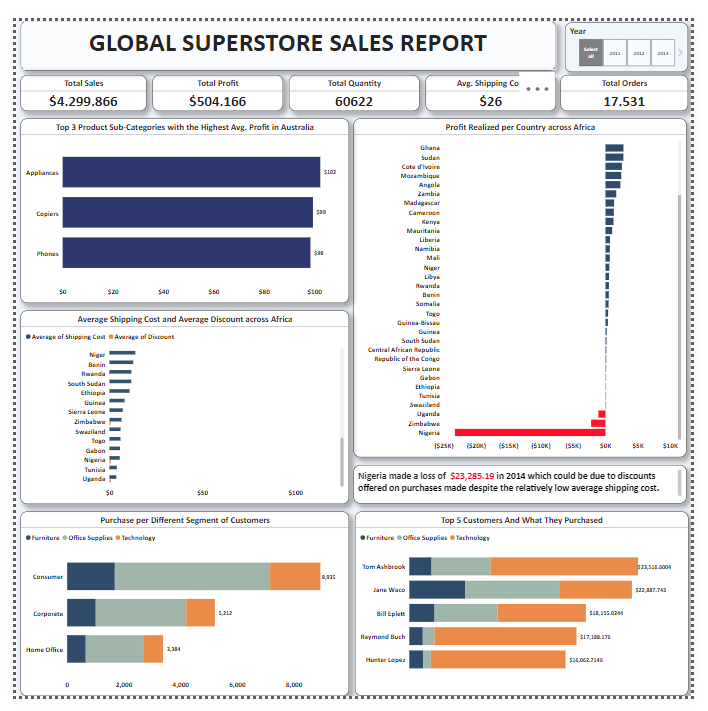

What the dashboard file says about the page in this screenshot:
{"tool":"powerbi","page":{"name":"Page 2","canvas":[1500,1500],"ordinal":1},"visuals":[{"type":"barChart","title":"Purchase per Different Segment of Customers","fields":{"Category":["GlobalSuperstore - Capstone xlsx - Orders.Segment"],"Y":["GlobalSuperstore - Capstone xlsx - Orders.Category"],"Series":["GlobalSuperstore - Capstone xlsx - Orders.Category"]},"box":[10,1090,730,410],"z":0},{"type":"barChart","title":"Profit  Realized per Country across Africa","fields":{"Category":["GlobalSuperstore - Capstone xlsx - Orders.Country","GlobalSuperstore - Capstone xlsx - Orders.Region"],"Y":["GlobalSuperstore - Capstone xlsx - Orders.Profit"]},"box":[752.3,218.2,740.9,854.5],"z":1000},{"type":"barChart","title":"Top 5 Customers And What They Purchased","fields":{"Category":["GlobalSuperstore - Capstone xlsx - Orders.Customer Name"],"Y":["GlobalSuperstore - Capstone xlsx - Orders.Sales"],"Series":["GlobalSuperstore - Capstone xlsx - Orders.Category"]},"box":[752.3,1090.9,740.9,409.1],"z":2000},{"type":"slicer","title":" Year","fields":{"Values":["GlobalSuperstore - Capstone xlsx - Orders.Order Date.Variation.Date Hierarchy.Year"]},"box":[1220,3.3,273.3,110],"z":3000},{"type":"card","title":"Total Sales","fields":{"Values":["GlobalSuperstore - Capstone xlsx - Orders.Sales"]},"box":[10,120,280,80],"z":4000},{"type":"card","title":"Total Profit","fields":{"Values":["GlobalSuperstore - Capstone xlsx - Orders.Profit"]},"box":[303.3,119.9,290,80],"z":5000},{"type":"card","title":"Avg. Shipping Cost","fields":{"Values":["GlobalSuperstore - Capstone xlsx - Orders.Shipping Cost"]},"box":[910,119.9,290,80],"z":6000},{"type":"card","title":"Total Quantity","fields":{"Values":["GlobalSuperstore - Capstone xlsx - Orders.Quantity"]},"box":[606.7,119.9,290,80],"z":7000},{"type":"textbox","box":[10,0,1190,110],"z":8000},{"type":"card","title":"Total Orders","fields":{"Values":["GlobalSuperstore - Capstone xlsx - Orders.Order ID"]},"box":[1210,120,283.3,80],"z":9000},{"type":"barChart","title":"Top 3 Product Sub-Categories with the Highest Avg. Profit in Australia","fields":{"Category":["GlobalSuperstore - Capstone xlsx - Orders.Sub-Category","GlobalSuperstore - Capstone xlsx - Orders.Country"],"Y":["GlobalSuperstore - Capstone xlsx - Orders.Profit"]},"box":[10,217.5,730,410],"z":10000},{"type":"clusteredBarChart","title":"Average Shipping Cost and Average Discount across Africa","fields":{"Category":["GlobalSuperstore - Capstone xlsx - Orders.Country","GlobalSuperstore - Capstone xlsx - Orders.Region"],"Y":["GlobalSuperstore - Capstone xlsx - Orders.Shipping Cost","GlobalSuperstore - Capstone xlsx - Orders.Discount"]},"box":[10,642.5,730,430],"z":11000}]}

Visuals, with their boxes in screenshot pixels (x1, y1, x2, y2), scaled from the page's 1500x1500 canvas onto the 708x711 screenshot:
"Purchase per Different Segment of Customers" barChart: locate(5, 517, 349, 710)
"Profit  Realized per Country across Africa" barChart: locate(355, 103, 705, 508)
"Top 5 Customers And What They Purchased" barChart: locate(355, 517, 705, 710)
" Year" slicer: locate(576, 2, 705, 54)
"Total Sales" card: locate(5, 57, 137, 95)
"Total Profit" card: locate(143, 57, 280, 95)
"Avg. Shipping Cost" card: locate(430, 57, 566, 95)
"Total Quantity" card: locate(286, 57, 423, 95)
textbox: locate(5, 0, 566, 52)
"Total Orders" card: locate(571, 57, 705, 95)
"Top 3 Product Sub-Categories with the Highest Avg. Profit in Australia" barChart: locate(5, 103, 349, 297)
"Average Shipping Cost and Average Discount across Africa" clusteredBarChart: locate(5, 305, 349, 508)
